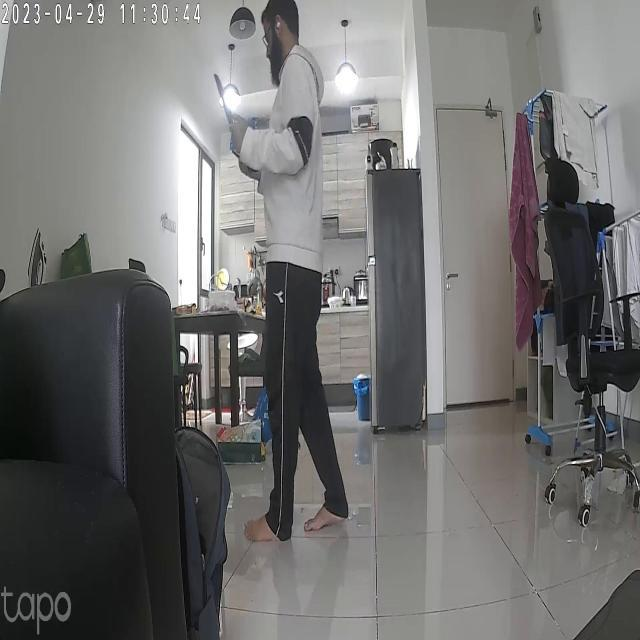Knife: (207, 68, 246, 138)
